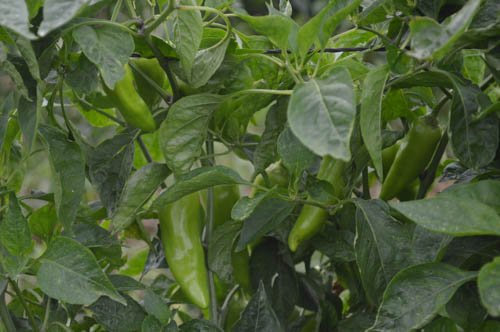ChiliPepper: (155, 188, 206, 308), (205, 180, 253, 295), (296, 152, 344, 262), (382, 119, 438, 199), (102, 64, 153, 133)
